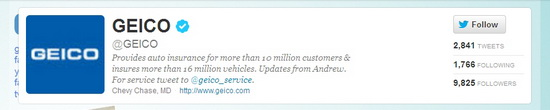Geico: (30, 44, 101, 64), (110, 16, 173, 35)
